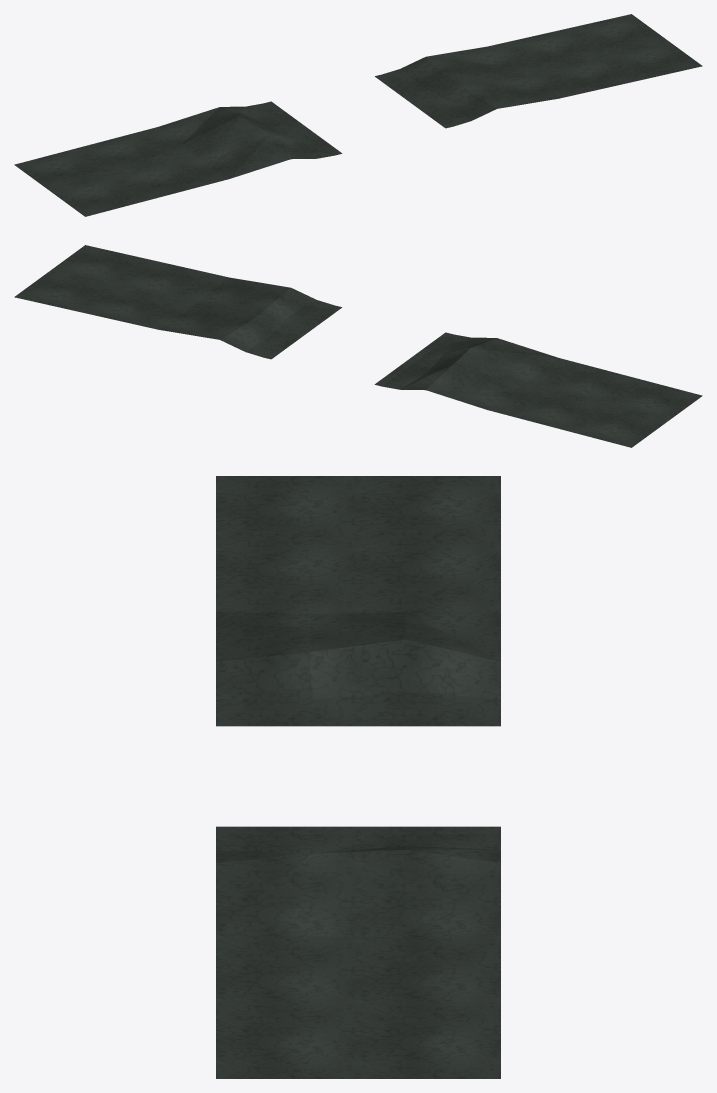
File: shoulder_1.glb
3 views of the same model, one above another, from view 1: azimuth 30°, elevation 25°; view 2: azimuth 150°, elevation 25°; view 3: azimuth 270°, elevation 25° (orthographic). The views are drawn at different scales.
Visible parts, largest first — view 1: Stone_Shoulders_1; view 2: Stone_Shoulders_1; view 3: Stone_Shoulders_1.
Boxes of the visible parts, x1,y1,x2,y2 form: Stone_Shoulders_1: (14, 14, 702, 216); Stone_Shoulders_1: (14, 245, 702, 447); Stone_Shoulders_1: (216, 476, 500, 1078).
Bounding box in the file's own units: 60 × 1.57 × 12.
Materials: 1 (1 with a texture image).
